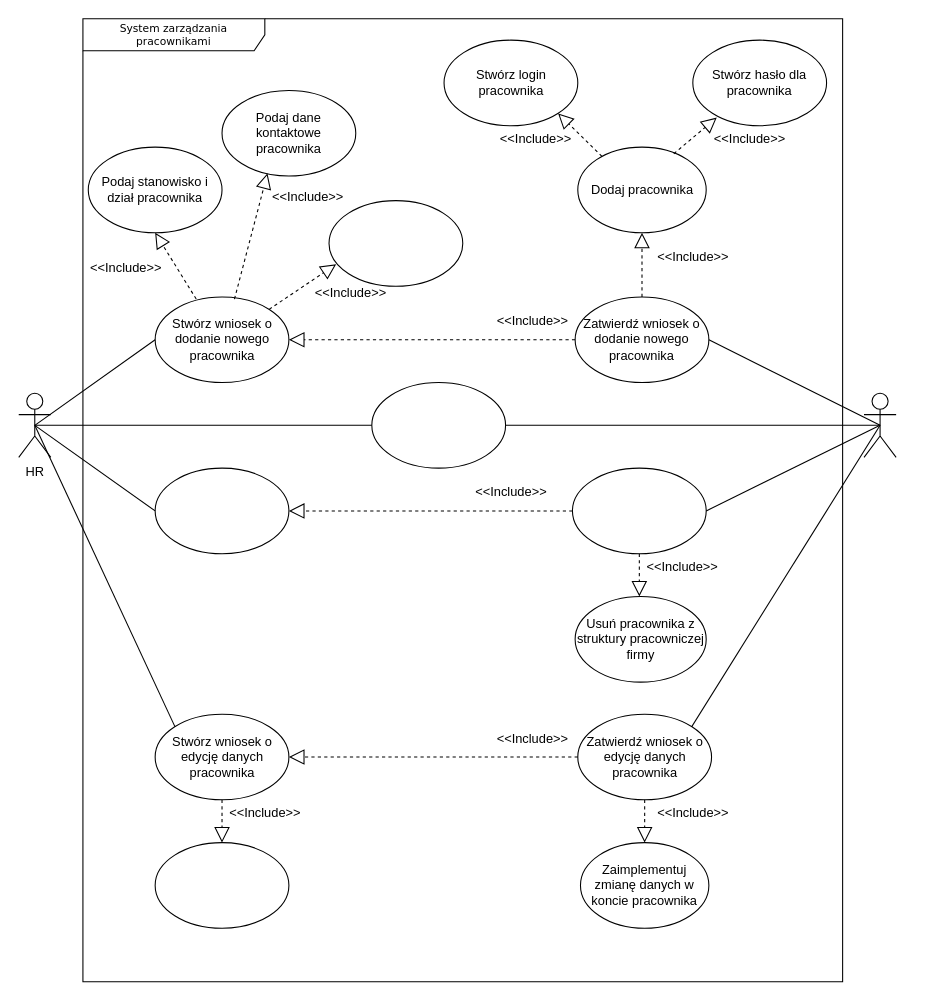
This 934x1000 diagram has some shape labels left out. The shapes that lost their labels are listed below. From the top down, each one's centre as x and y in pixels, then its label:
At (395,243): "Podaj dane personalne pracownika".
At (438,424): "Wyświetlanie struktury pracowniczej firmy".
At (879,424): "Administator".
At (221,510): "Stwórz wniosek o usunięcie pracownika".
At (638,510): "Zatwierdź wniosek o usunięcie pracownika".
At (221,885): "Wpisz zmienione dane".
